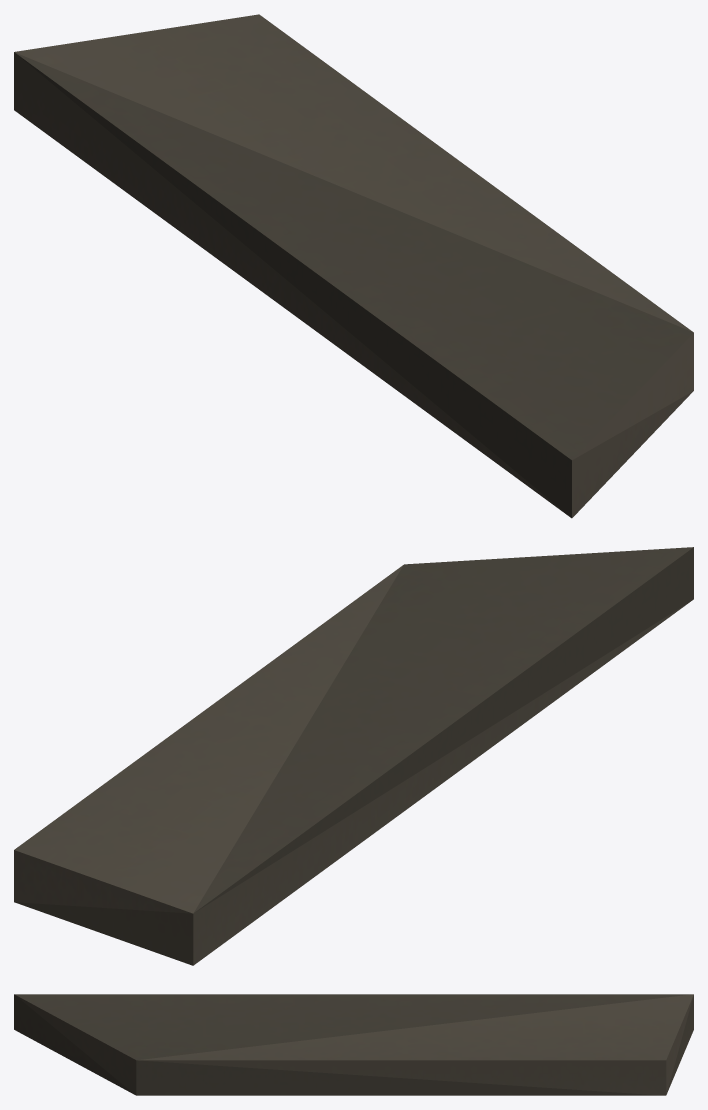
Rendered from Wood_1H_LOD.fbx.
The picture shows the model from 3 angles, top to bottom: view 1: azimuth 30°, elevation 25°; view 2: azimuth 150°, elevation 25°; view 3: azimuth 270°, elevation 25°; orthographic projection. The views are drawn at different scales.
Parts seen in each view (by area): view 1: pCube997; view 2: pCube997; view 3: pCube997.
Part boxes in pixels (x1,y1,x2,y2): pCube997: (14, 14, 693, 518); pCube997: (14, 547, 693, 965); pCube997: (14, 994, 693, 1095).
Bounding box in the file's own units: 0.36 × 0.09 × 1.56.
